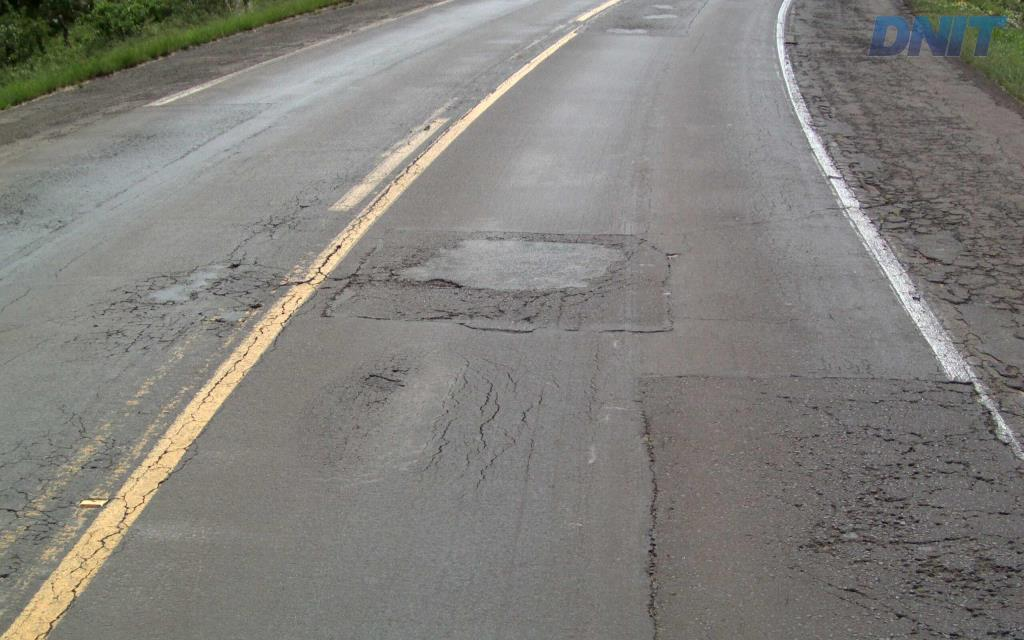crack: (641, 410, 661, 629), (915, 555, 985, 586), (383, 268, 465, 290)
pothole: (357, 371, 410, 400), (420, 271, 468, 292)
